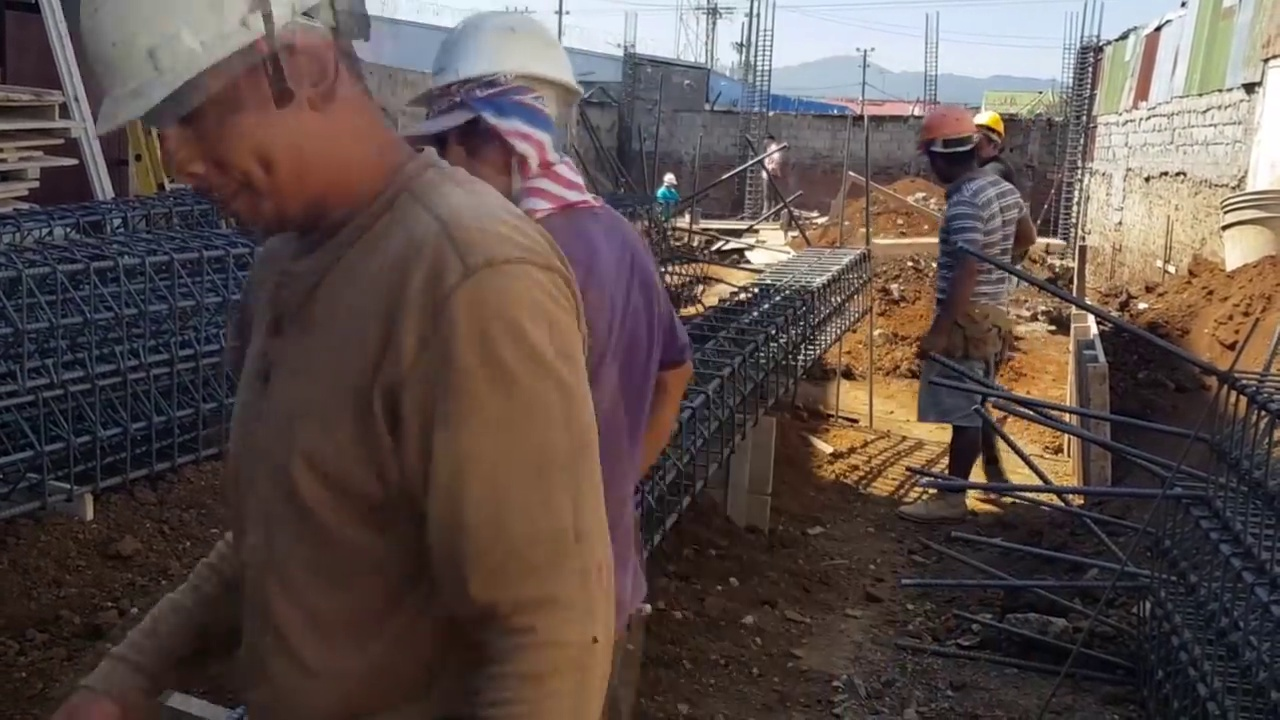helmet: (86, 4, 310, 144), (415, 11, 585, 119), (920, 106, 980, 155), (971, 108, 1005, 139), (662, 174, 677, 185)
helmet-off: (761, 131, 775, 148)
helmet-on: (87, 0, 388, 237), (397, 17, 597, 197), (917, 104, 980, 191), (970, 106, 1007, 163), (661, 173, 678, 192)
person: (65, 8, 700, 720), (366, 7, 693, 677), (911, 106, 1044, 534), (758, 128, 789, 223), (654, 173, 679, 228)
